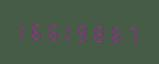eight: (92, 20, 106, 44)
nine: (77, 19, 91, 44)
one: (17, 17, 31, 42), (62, 19, 76, 43)
seven: (122, 21, 136, 45)
six: (47, 18, 61, 43), (107, 20, 121, 45), (32, 18, 46, 42)
